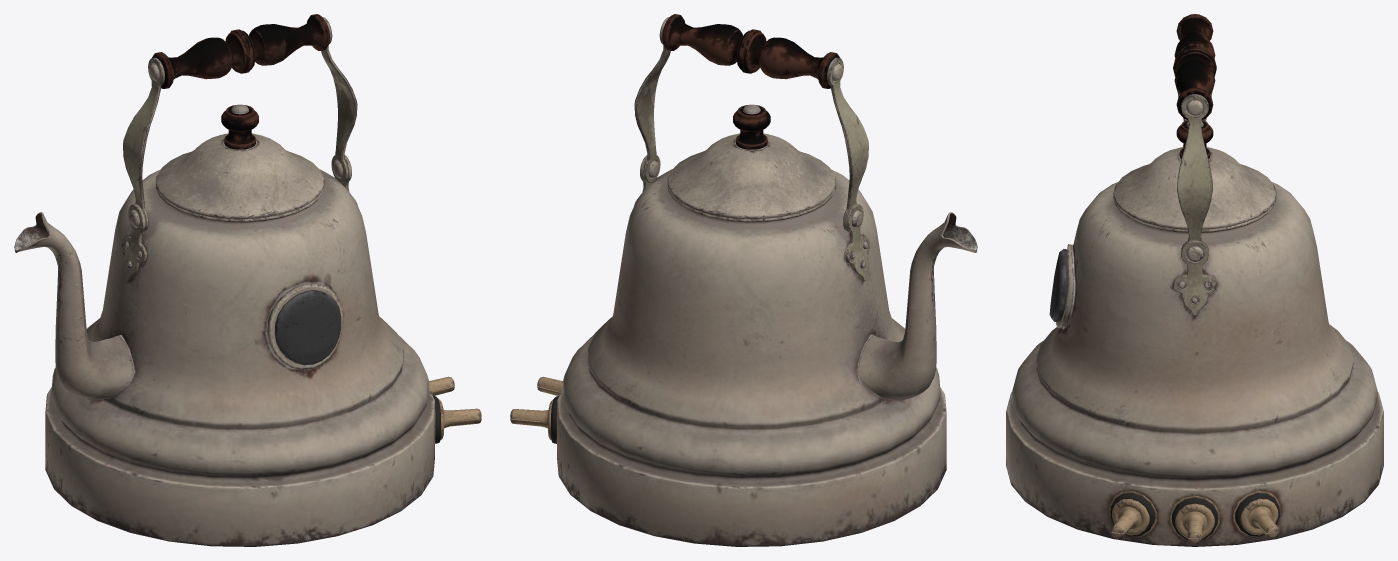
File: vintage_electric_kettle.glb
3 views of the same model, side by side, from view 1: azimuth 30°, elevation 25°; view 2: azimuth 150°, elevation 25°; view 3: azimuth 270°, elevation 25° (orthographic). The views are drawn at different scales.
Parts seen in each view (by area): view 1: vintage_electric_kettle; view 2: vintage_electric_kettle; view 3: vintage_electric_kettle.
Boxes of the visible parts, x1,y1,x2,y2 form: vintage_electric_kettle: [14, 14, 481, 546]; vintage_electric_kettle: [510, 14, 977, 546]; vintage_electric_kettle: [1006, 14, 1383, 546].
Size of the model in its own units: 0.3209 by 0.3048 by 0.2486.
Materials: 2 (2 with a texture image).
